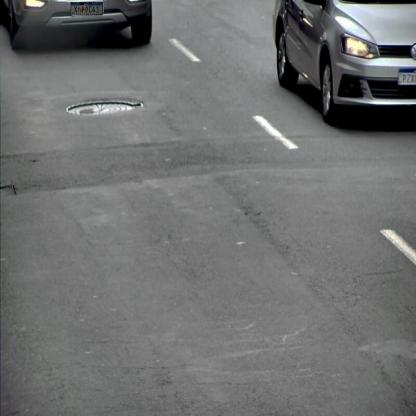PlacaM: (71, 2, 103, 15)
